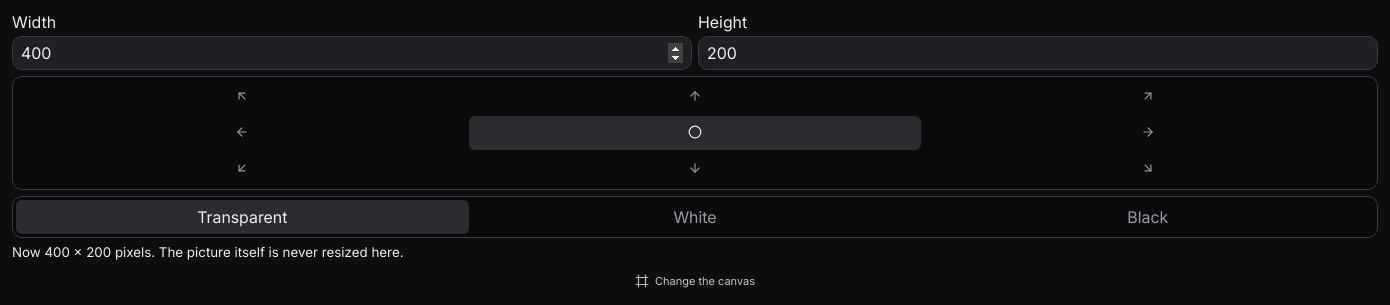
the canvas panel › says when a smaller canvas cuts part of the picture away
Replace the text in the number field labelled "Width" with "300" at (352, 53), box [12,36,692,70]
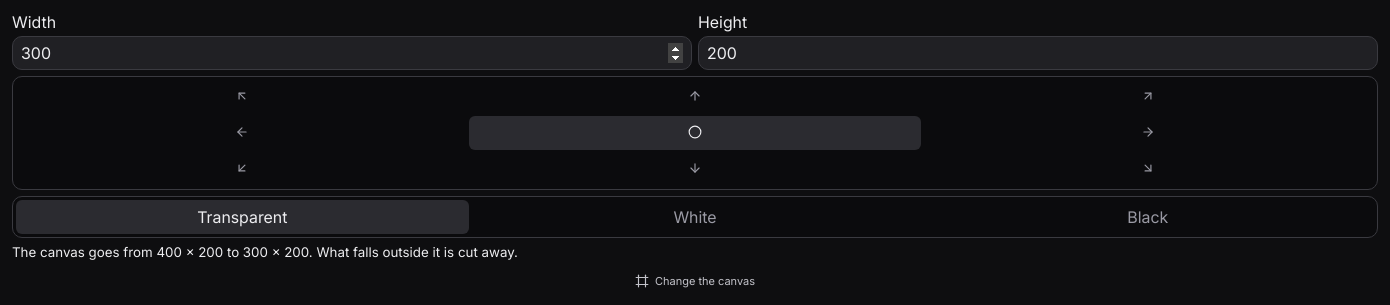
Result: the text "What falls outside it is cut away." is shown at [12,244,518,260]
